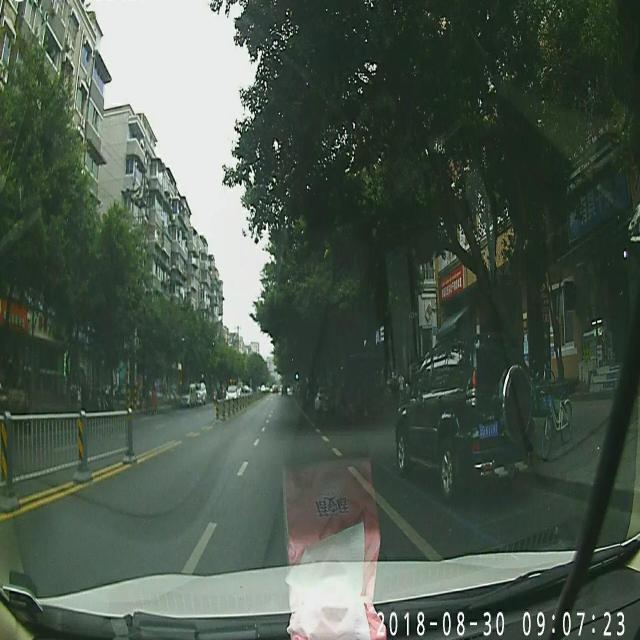car: (396, 332, 530, 490), (224, 384, 238, 404)
